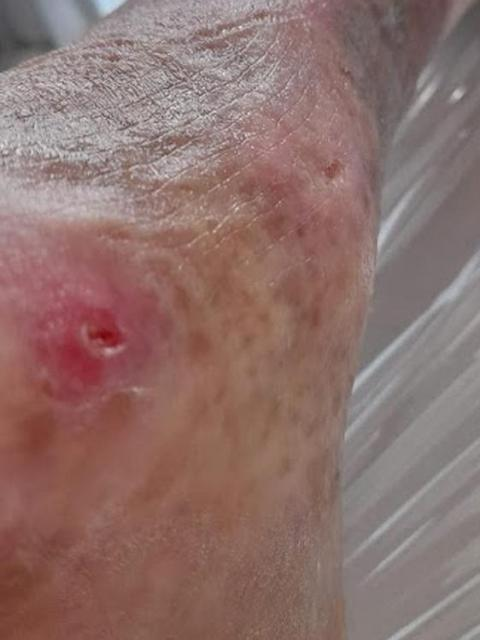wound: (10, 259, 163, 412)
